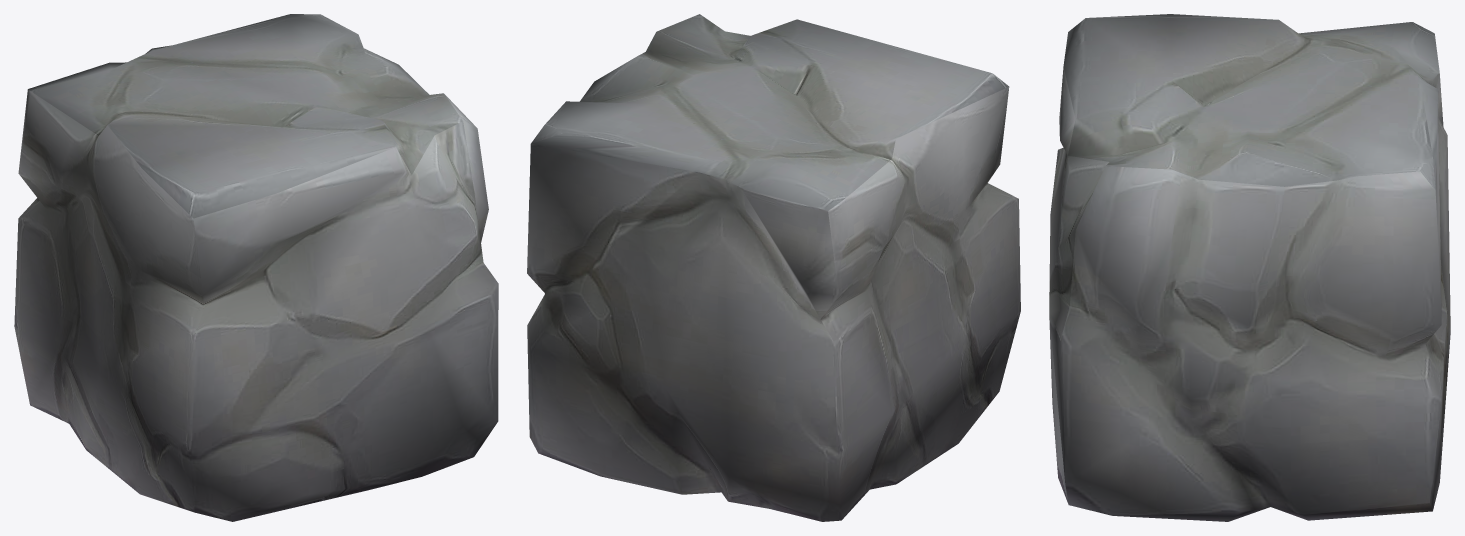
File: rock.glb
The picture shows the model from 3 angles, left to right: view 1: azimuth 30°, elevation 25°; view 2: azimuth 150°, elevation 25°; view 3: azimuth 270°, elevation 25°; orthographic projection. The views are drawn at different scales.
Visible parts, largest first — view 1: untitled; view 2: untitled; view 3: untitled.
Part boxes in pixels (<box>): untitled: <box>14,14,498,521</box>; untitled: <box>527,14,1020,521</box>; untitled: <box>1049,14,1450,521</box>.
Size of the model in its own units: 1 by 1 by 1.
1 material, 1 textured.
